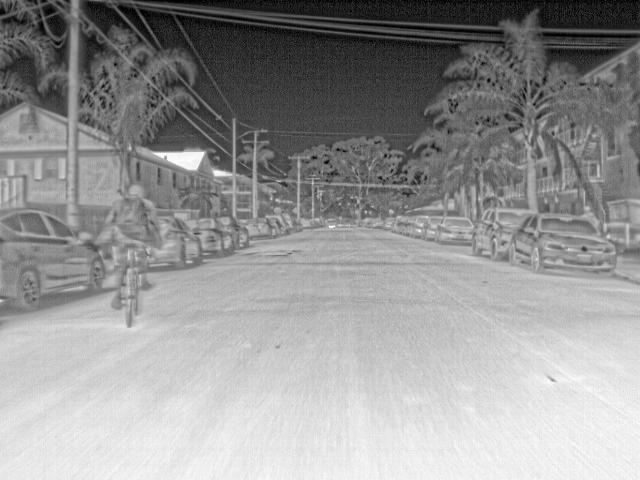car: (1, 206, 106, 311), (508, 213, 618, 278), (471, 206, 539, 261), (147, 215, 204, 270), (184, 215, 236, 256), (216, 216, 251, 250), (437, 216, 476, 246), (245, 218, 276, 239), (421, 215, 442, 240), (412, 214, 430, 238), (273, 212, 290, 233), (268, 214, 283, 234), (391, 213, 405, 233), (281, 214, 295, 232), (404, 214, 414, 236), (290, 216, 304, 230), (383, 216, 396, 230), (306, 216, 320, 228), (324, 218, 338, 230), (358, 215, 372, 227), (298, 218, 310, 230), (372, 218, 385, 228)
person: (107, 182, 159, 290), (584, 204, 597, 224)
